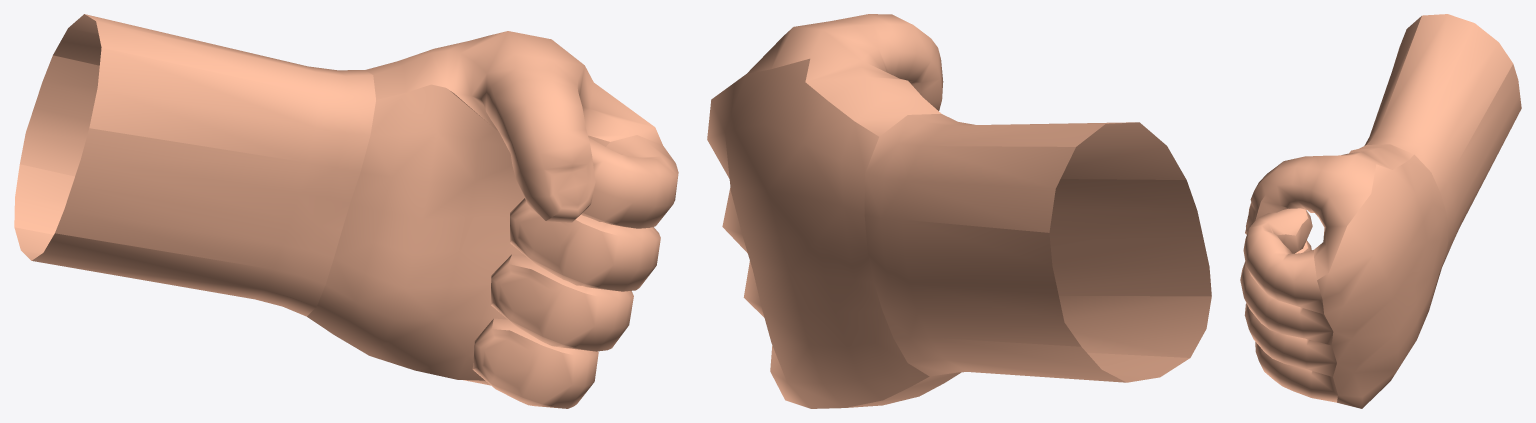
Rendered from Rock.glb.
3 renders of one model, left to right at view 1: azimuth 30°, elevation 25°; view 2: azimuth 150°, elevation 25°; view 3: azimuth 270°, elevation 25°, orthographic. The views are drawn at different scales.
Parts seen in each view (by area): view 1: 14.001; view 2: 14.001; view 3: 14.001.
Boxes of the visible parts, x1=… form: 14.001: x1=14, y1=14, x2=678, y2=408; 14.001: x1=707, y1=14, x2=1211, y2=408; 14.001: x1=1240, y1=14, x2=1521, y2=408.
Size of the model in its own units: 34.23 by 24.32 by 22.77.
